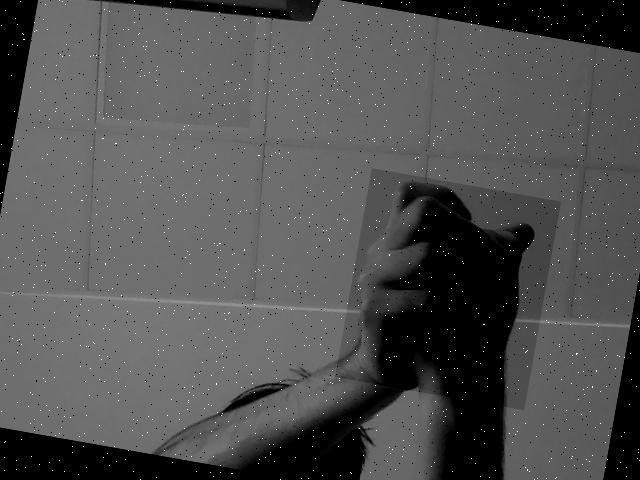friend: (335, 168, 560, 410)
